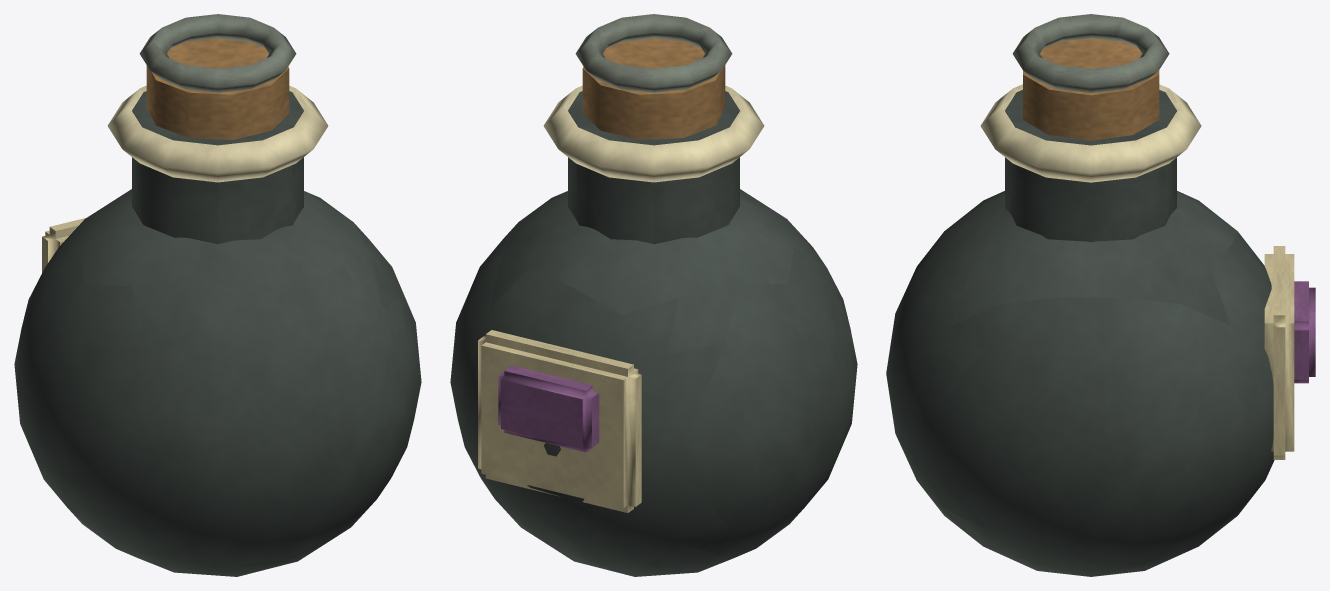
File: item-SleepGasGrenade.fbx
3 renders of one model, left to right at view 1: azimuth 30°, elevation 25°; view 2: azimuth 150°, elevation 25°; view 3: azimuth 270°, elevation 25°, orthographic.
Parts seen in each view (by area): view 1: item-SleepGasGrenade__Geometry; view 2: item-SleepGasGrenade__Geometry; view 3: item-SleepGasGrenade__Geometry.
Boxes of the visible parts, box(x1,y1,x2,y2) form: item-SleepGasGrenade__Geometry: box(14, 14, 421, 576); item-SleepGasGrenade__Geometry: box(450, 14, 857, 576); item-SleepGasGrenade__Geometry: box(886, 14, 1315, 576).
Size of the model in its own units: 0.36 by 0.502 by 0.3775.
Materials: 1 (1 with a texture image).
